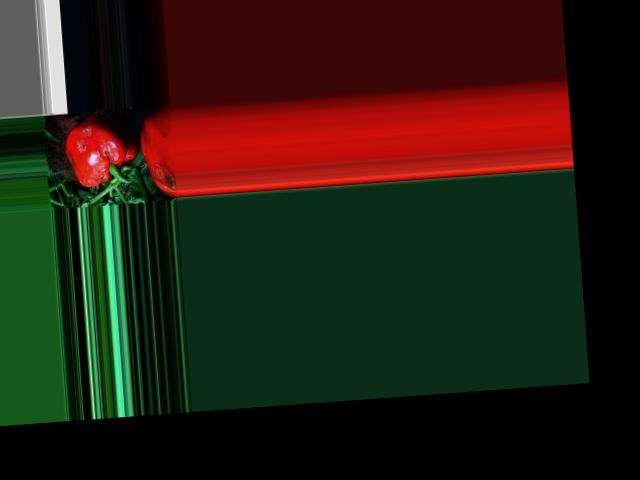bell_pepper: (66, 107, 140, 195)
